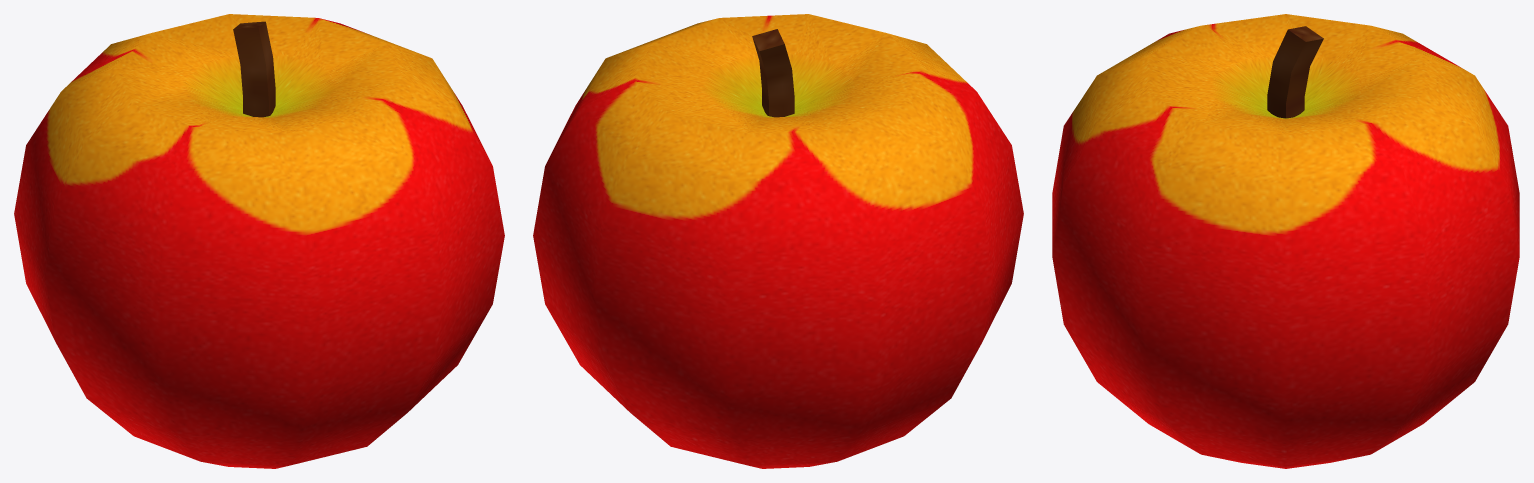
File: apple.fbx
The picture shows the model from 3 angles, left to right: view 1: azimuth 30°, elevation 25°; view 2: azimuth 150°, elevation 25°; view 3: azimuth 270°, elevation 25°; orthographic projection.
Visible parts, largest first — view 1: apple; view 2: apple; view 3: apple.
Boxes of the visible parts, x1,y1,x2,y2 form: apple: (14,14,504,468); apple: (533,14,1023,468); apple: (1052,14,1519,468).
Size of the model in its own units: 1 by 0.9395 by 0.9511.
1 material, 1 textured.
